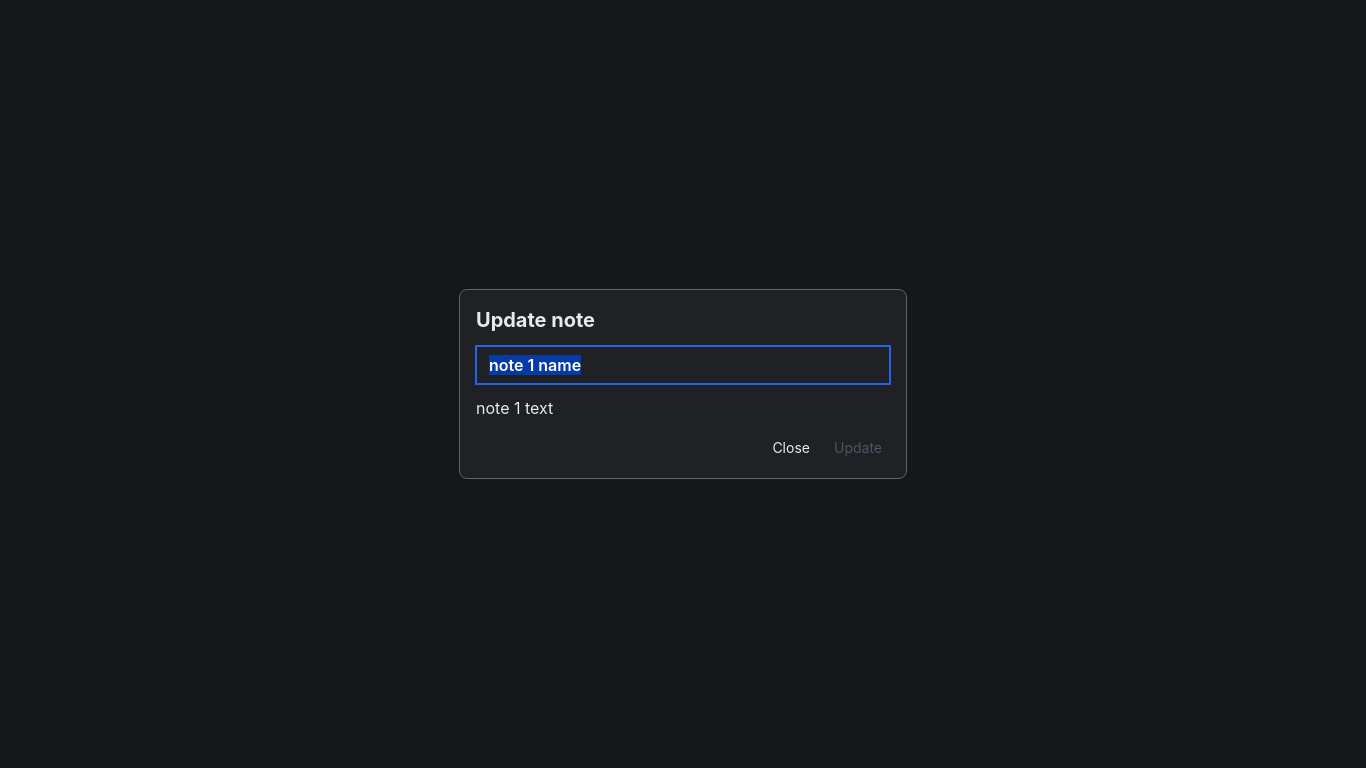
Test: UpdateNote › should enable update button if title input has changed
Type "update" into the field showing "note 1 name".
click(683, 365); type("update")  # box [476, 346, 890, 384]
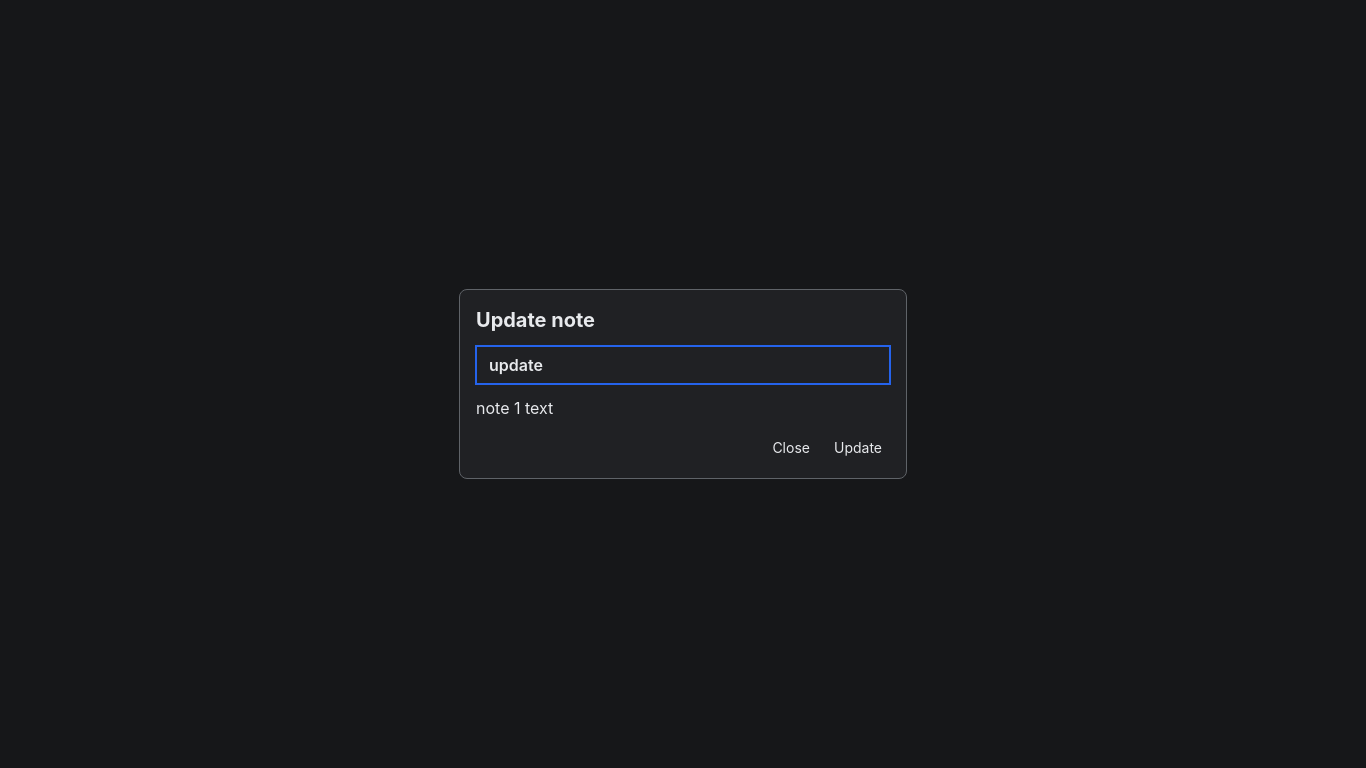
Expected: the button with aria-label "update note" is enabled, [826, 434, 890, 462]
